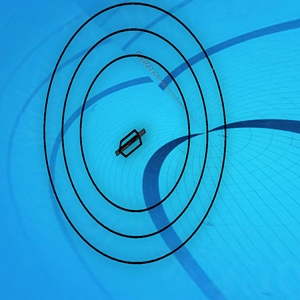circle: (41, 1, 230, 278)
submarine: (114, 127, 149, 161)
